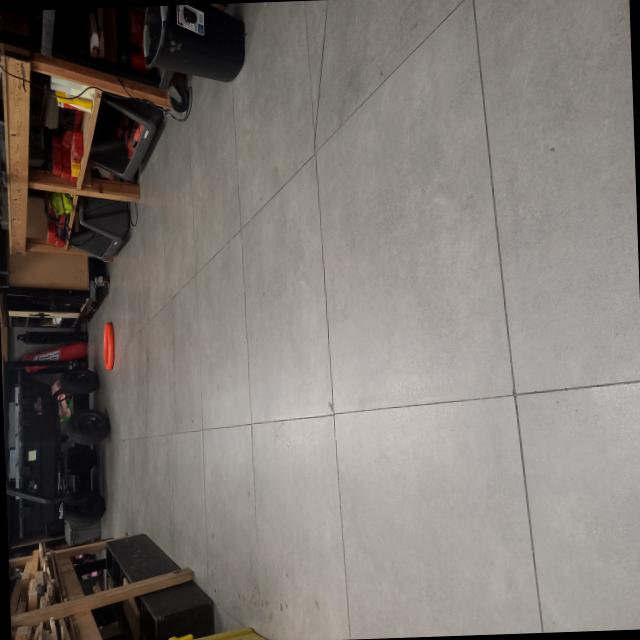note: (100, 317, 120, 373)
